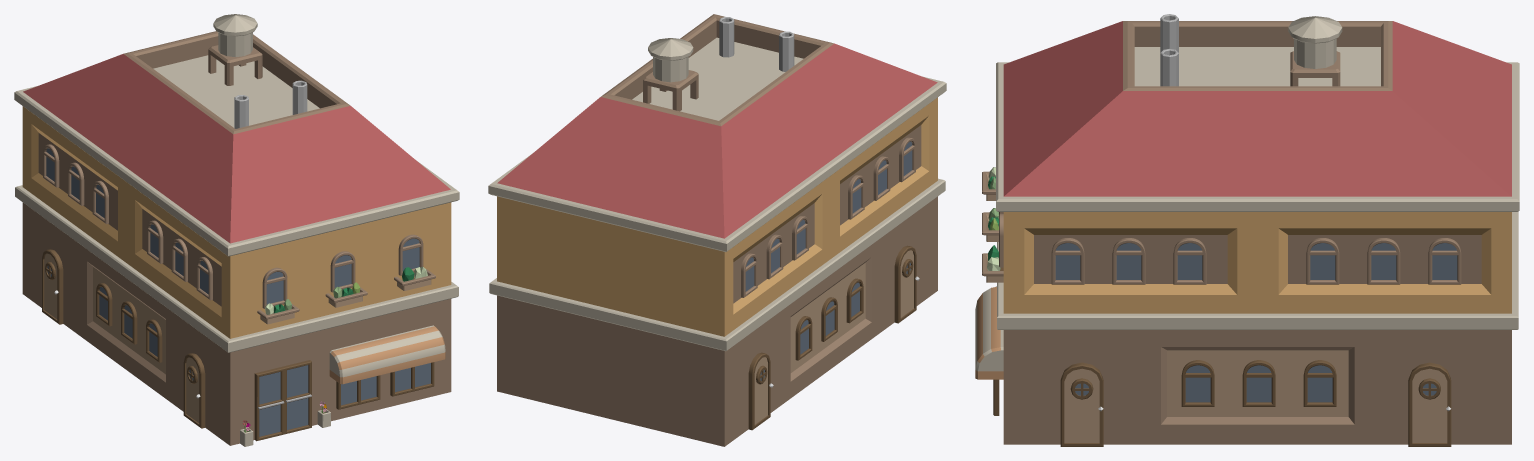
File: casa_2_alturas_a.fbx
3 renders of one model, left to right at view 1: azimuth 30°, elevation 25°; view 2: azimuth 150°, elevation 25°; view 3: azimuth 270°, elevation 25°, orthographic. The views are drawn at different scales.
Parts seen in each view (by area): view 1: CASA_2_alturas, toldo_19, puerta_14, pCylinder29, puerta_16, puerta_15, ventana_124, ventana_125, pCube45, ventana_126, ventana_127, ventana_128 (+14 smaller); view 2: CASA_2_alturas, pCylinder29, puerta_16, puerta_15, pCube45, ventana_129, ventana_141, ventana_131, ventana_138, ventana_132, ventana_130, ventana_142 (+4 smaller); view 3: CASA_2_alturas, puerta_17, puerta_18, pCylinder29, toldo_19, ventana_148, ventana_149, ventana_150, ventana_151, ventana_146, ventana_147, ventana_143 (+6 smaller).
Boxes of the visible parts, x1=… form: CASA_2_alturas: x1=14, y1=31, x2=459, y2=445; toldo_19: x1=329, y1=325, x2=445, y2=384; puerta_14: x1=254, y1=360, x2=311, y2=441; pCylinder29: x1=213, y1=14, x2=257, y2=57; puerta_16: x1=183, y1=353, x2=205, y2=428; puerta_15: x1=42, y1=249, x2=63, y2=324; ventana_124: x1=336, y1=375, x2=380, y2=409; ventana_125: x1=390, y1=362, x2=434, y2=396; pCube45: x1=208, y1=45, x2=262, y2=85; ventana_126: x1=262, y1=267, x2=287, y2=308; ventana_127: x1=330, y1=251, x2=355, y2=292; ventana_128: x1=398, y1=234, x2=423, y2=275; CASA_2_alturas: x1=488, y1=14, x2=946, y2=446; pCylinder29: x1=648, y1=38, x2=693, y2=82; puerta_16: x1=894, y1=245, x2=919, y2=323; puerta_15: x1=748, y1=352, x2=773, y2=430; pCube45: x1=643, y1=70, x2=698, y2=111; ventana_129: x1=795, y1=316, x2=812, y2=360; ventana_141: x1=766, y1=234, x2=783, y2=279; ventana_131: x1=846, y1=278, x2=863, y2=323; ventana_138: x1=873, y1=156, x2=890, y2=200; ventana_132: x1=848, y1=175, x2=864, y2=219; ventana_130: x1=821, y1=297, x2=837, y2=341; ventana_142: x1=741, y1=253, x2=757, y2=297; CASA_2_alturas: x1=996, y1=21, x2=1519, y2=444; puerta_17: x1=1060, y1=362, x2=1103, y2=446; puerta_18: x1=1408, y1=362, x2=1451, y2=446; pCylinder29: x1=1288, y1=16, x2=1342, y2=68; toldo_19: x1=975, y1=287, x2=1003, y2=379; ventana_148: x1=1306, y1=238, x2=1339, y2=284; ventana_149: x1=1173, y1=238, x2=1206, y2=284; ventana_150: x1=1112, y1=238, x2=1145, y2=284; ventana_151: x1=1051, y1=238, x2=1084, y2=284; ventana_146: x1=1428, y1=238, x2=1461, y2=284; ventana_147: x1=1367, y1=238, x2=1400, y2=284; ventana_143: x1=1303, y1=360, x2=1336, y2=406.
Size of the model in its own units: 857 by 1056 by 1392.
